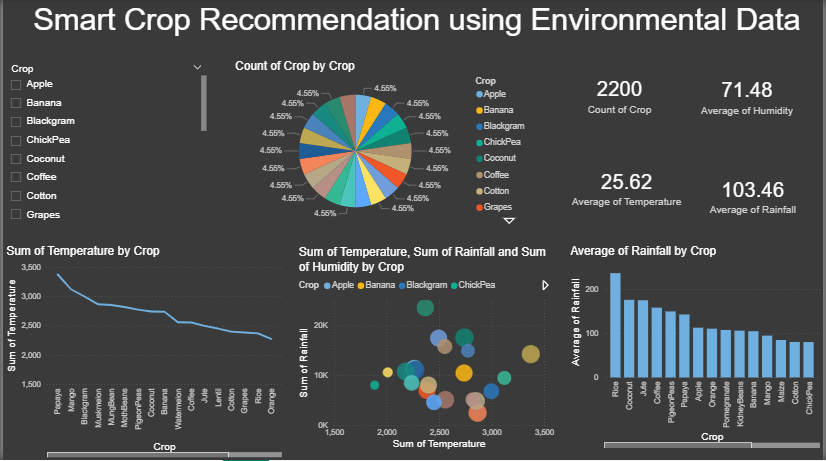

This screenshot's page, from the dashboard's own definition file:
{"tool":"powerbi","page":{"name":"Crop Recomendation Dashboard","canvas":[1280,720],"ordinal":0},"visuals":[{"type":"card","fields":{"Values":["CountNonNull(Crop_Recommendation.Crop)"]},"box":[880.6,90.3,164,116.1],"z":0},{"type":"card","fields":{"Values":["Avg(Crop_Recommendation.Temperature)"]},"box":[880.6,239.5,186.1,106.9],"z":1000},{"type":"textbox","box":[43.3,0,1237.5,77.1],"z":2000},{"type":"card","fields":{"Values":["Avg(Crop_Recommendation.Humidity)"]},"box":[1066.7,94,189.8,112.4],"z":3000},{"type":"card","fields":{"Values":["Avg(Crop_Recommendation.Rainfall)"]},"box":[1085.1,252.4,171.3,106.9],"z":4000},{"type":"pieChart","fields":{"Y":["CountNonNull(Crop_Recommendation.Crop)"],"Category":["Crop_Recommendation.Crop"]},"box":[357.4,94,488.2,265.3],"z":5000},{"type":"lineChart","fields":{"Category":["Crop_Recommendation.Crop"],"Y":["Sum(Crop_Recommendation.Temperature)"]},"box":[0,382.9,440.3,337.1],"z":6000},{"type":"scatterChart","fields":{"X":["Sum(Crop_Recommendation.Temperature)"],"Y":["Sum(Crop_Recommendation.Rainfall)"],"Series":["Crop_Recommendation.Crop"],"Size":["Sum(Crop_Recommendation.Humidity)"]},"box":[456.9,385,409,322.4],"z":7000},{"type":"slicer","fields":{"Values":["Crop_Recommendation.Crop"]},"box":[0,94,322.4,265.3],"z":8000},{"type":"columnChart","fields":{"Category":["Crop_Recommendation.Crop"],"Y":["Avg(Crop_Recommendation.Rainfall)"]},"box":[880.6,383.2,399.8,322.4],"z":9000}]}

Visuals, with their boxes in screenshot pixels (x1, y1, x2, y2), scaled from the page's 1280x720 canvas onto the 826x461 screenshot:
card - CountNonNull(Crop_Recommendation.Crop): box(568, 58, 674, 132)
card - Avg(Crop_Recommendation.Temperature): box(568, 153, 688, 222)
textbox: box(28, 0, 825, 49)
card - Avg(Crop_Recommendation.Humidity): box(688, 60, 811, 132)
card - Avg(Crop_Recommendation.Rainfall): box(700, 162, 811, 230)
pieChart - CountNonNull(Crop_Recommendation.Crop) x Crop_Recommendation.Crop: box(231, 60, 546, 230)
lineChart - Crop_Recommendation.Crop x Sum(Crop_Recommendation.Temperature): box(0, 245, 284, 460)
scatterChart - Sum(Crop_Recommendation.Temperature) x Sum(Crop_Recommendation.Rainfall): box(295, 247, 559, 453)
slicer - Crop_Recommendation.Crop: box(0, 60, 208, 230)
columnChart - Crop_Recommendation.Crop x Avg(Crop_Recommendation.Rainfall): box(568, 245, 825, 452)
